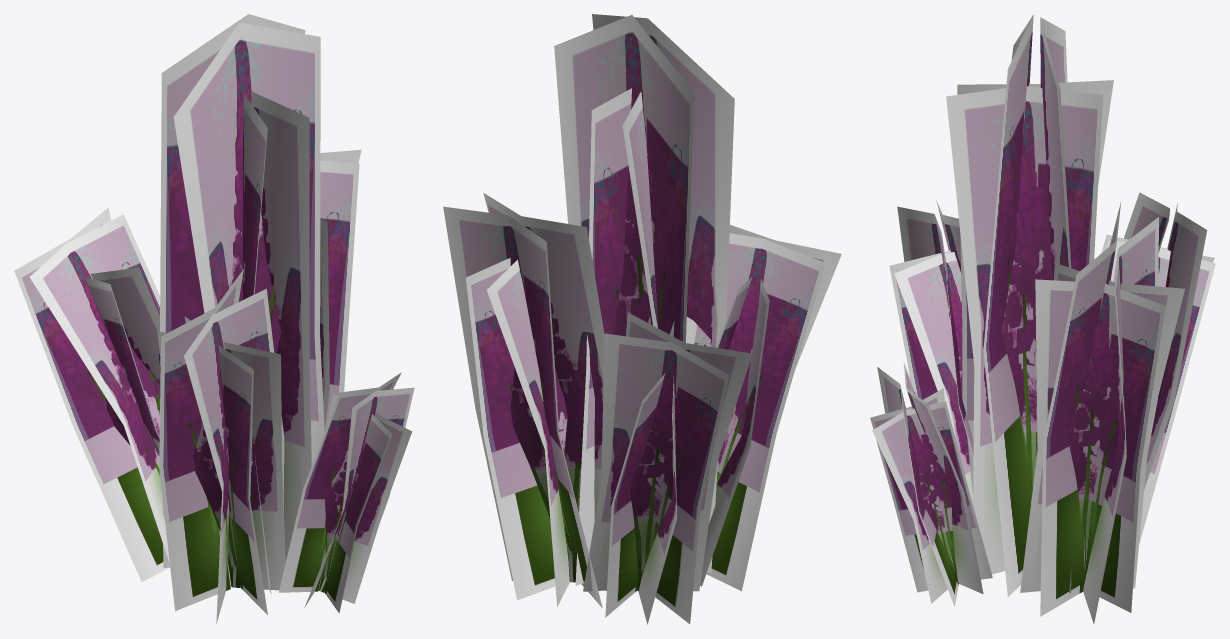
Rendered from lupin2.FBX.
The picture shows the model from 3 angles, left to right: view 1: azimuth 30°, elevation 25°; view 2: azimuth 150°, elevation 25°; view 3: azimuth 270°, elevation 25°; orthographic projection.
Parts seen in each view (by area): view 1: lupin001; view 2: lupin001; view 3: lupin001.
Boxes of the visible parts, x1,y1,x2,y2 form: lupin001: (14,14,414,624); lupin001: (443,14,841,624); lupin001: (870,14,1215,623).
Bounding box in the file's own units: 30.76 × 52.09 × 28.87.
1 material, 1 textured.
